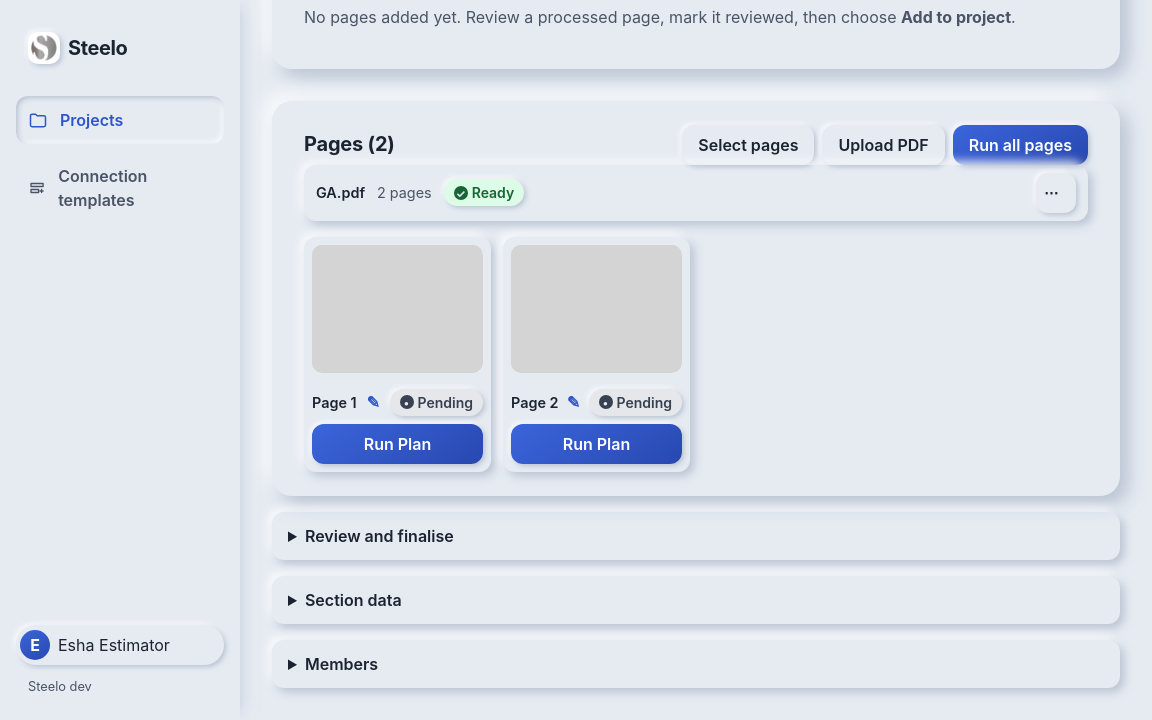
Test: Run Plan › shows progress while a page is processing
The width and height of the screenshot is (1152, 720).
(page scrolled)
Step 1. Click the button with aria-label "Run Plan — page 1" → (398, 444), box [312,424,483,464]
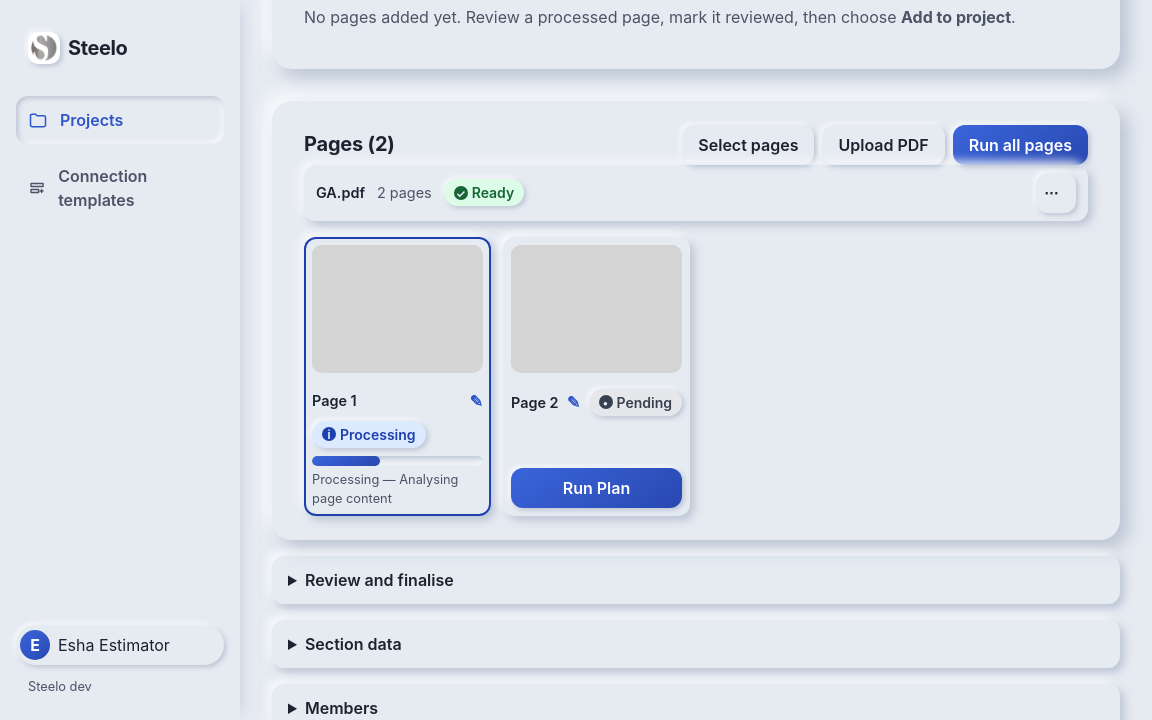
Result: the text "Processing — Analysing page content" is shown at [312,470,483,508]
